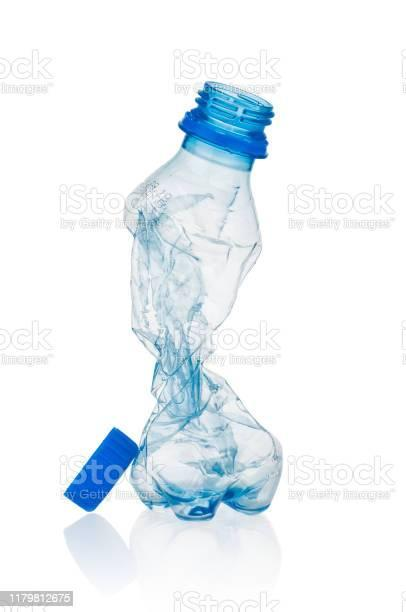plastic: (118, 89, 282, 507)
